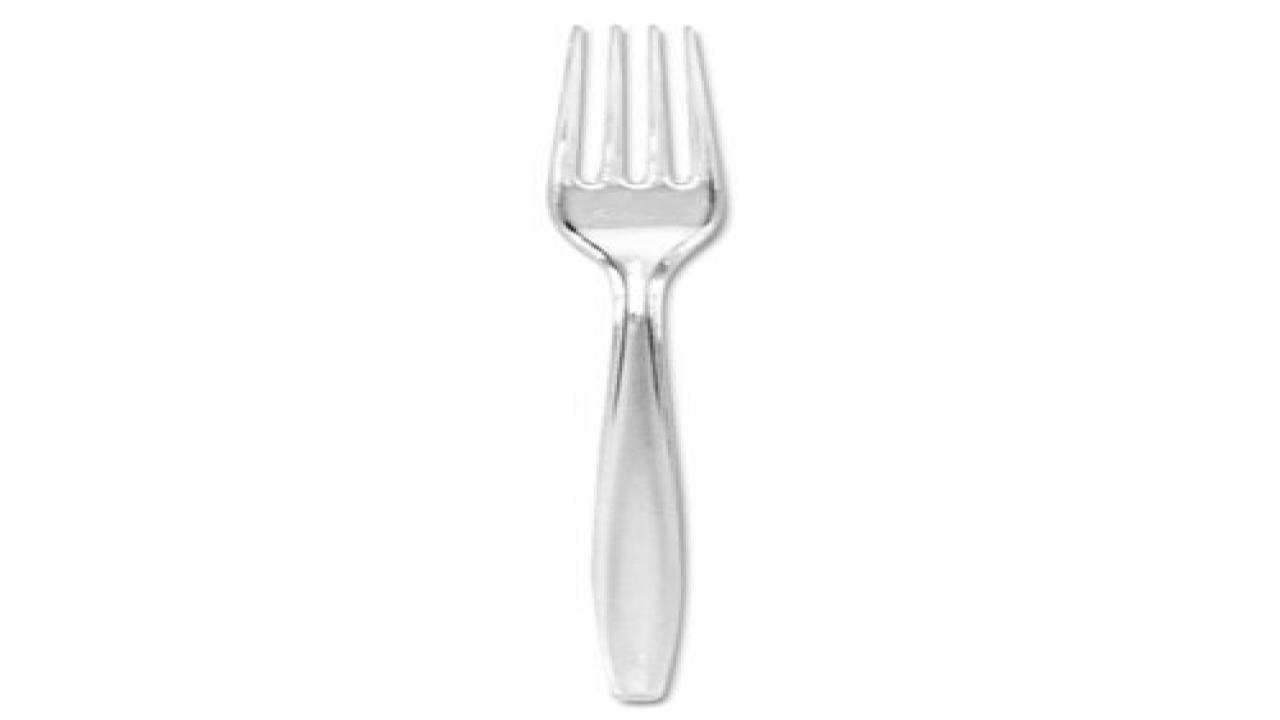fork: (542, 22, 730, 704)
